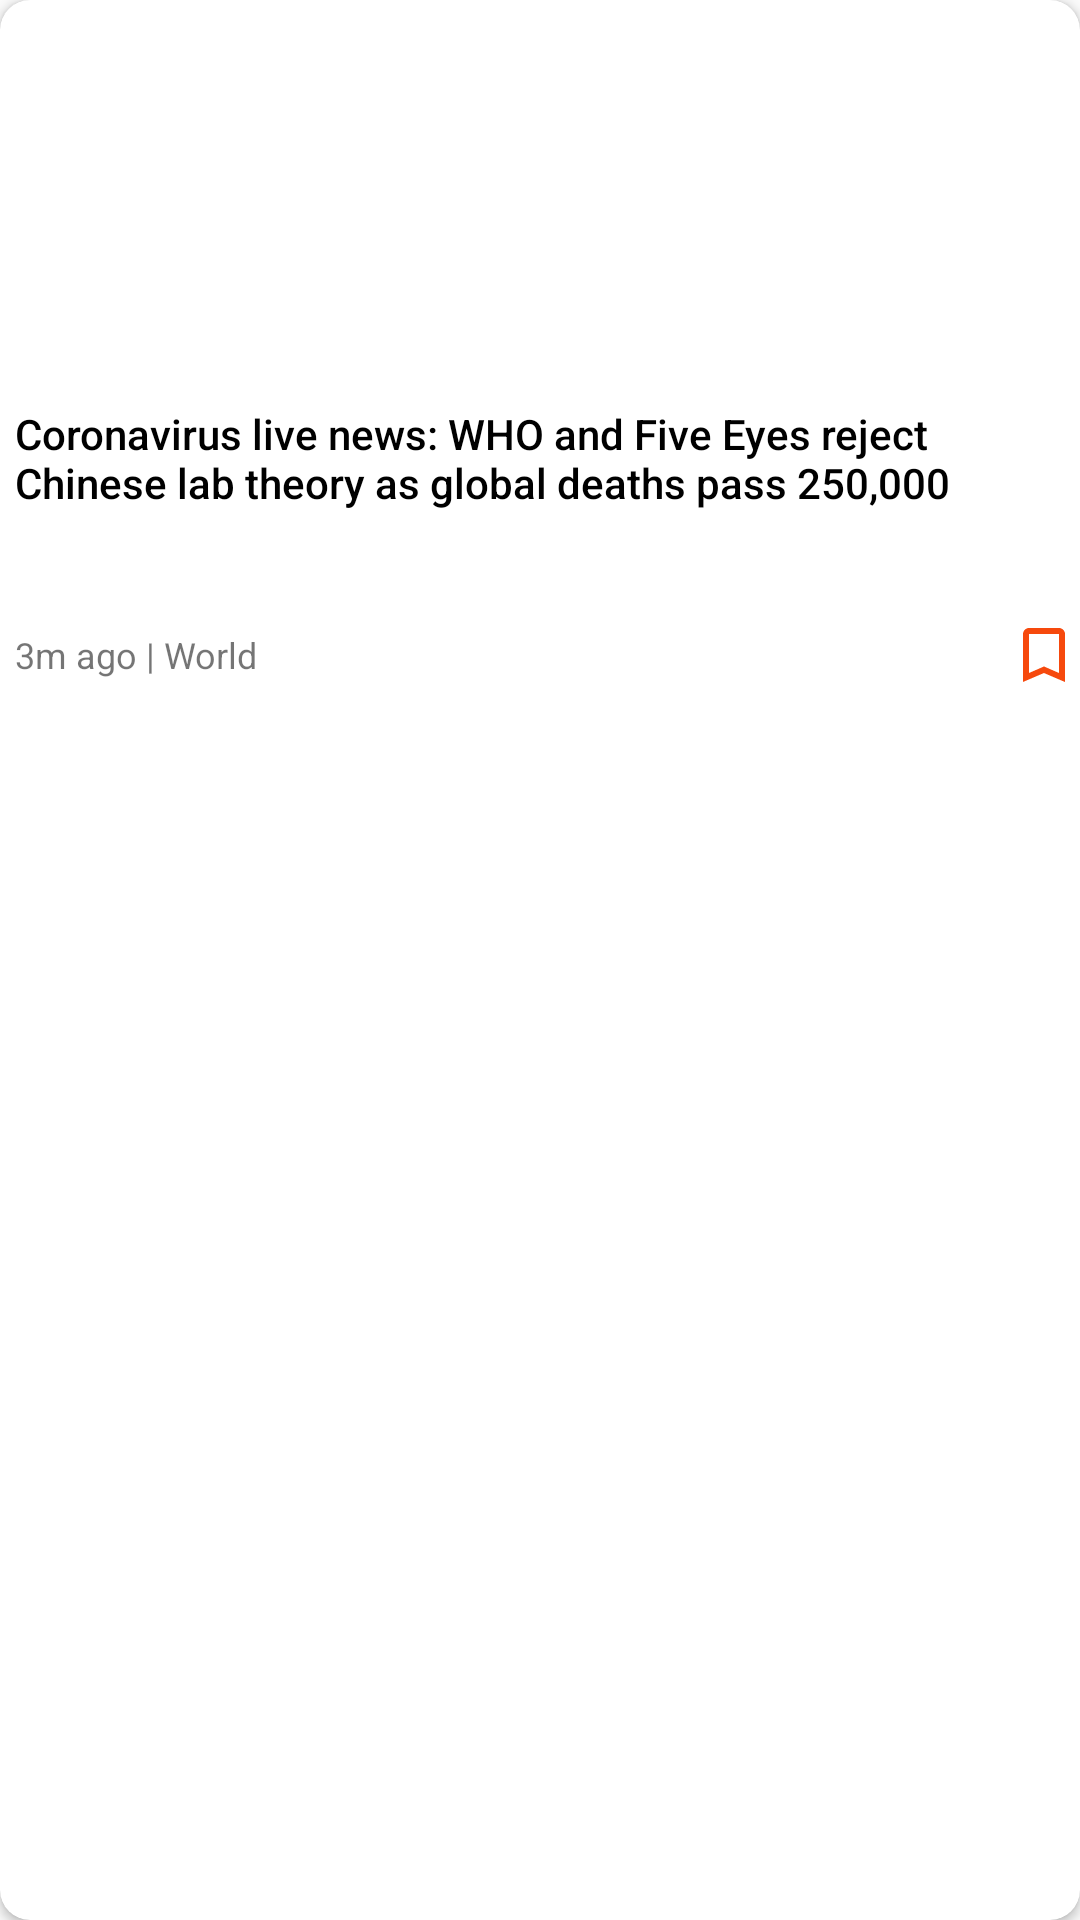

Where to tap for icons on this 1080px x 1920px app screen, as [x,y]:
bookmark: [1044,655]
